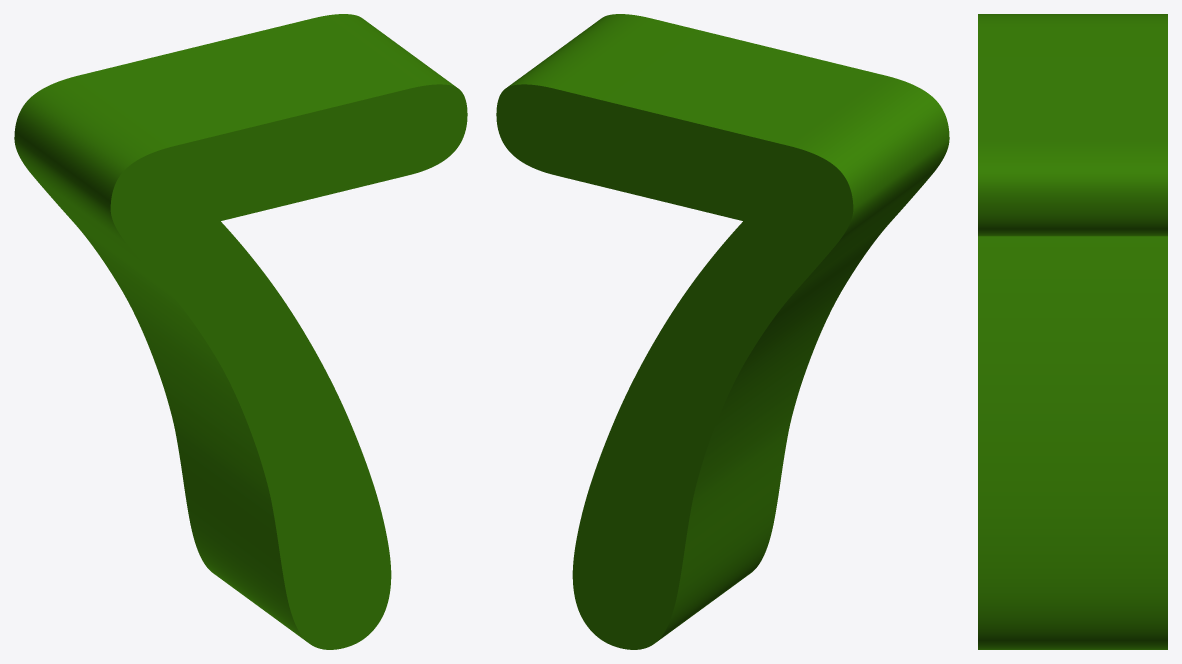
3 renders of one model, left to right at view 1: azimuth 30°, elevation 25°; view 2: azimuth 150°, elevation 25°; view 3: azimuth 270°, elevation 25°, orthographic.
Visible parts, largest first — view 1: テキスト; view 2: テキスト; view 3: テキスト.
Boxes of the visible parts, x1,y1,x2,y2 form: テキスト: [14, 14, 467, 649]; テキスト: [496, 14, 949, 649]; テキスト: [978, 14, 1167, 649].
Bounding box in the file's own units: 0.4283 × 0.6232 × 0.2.
